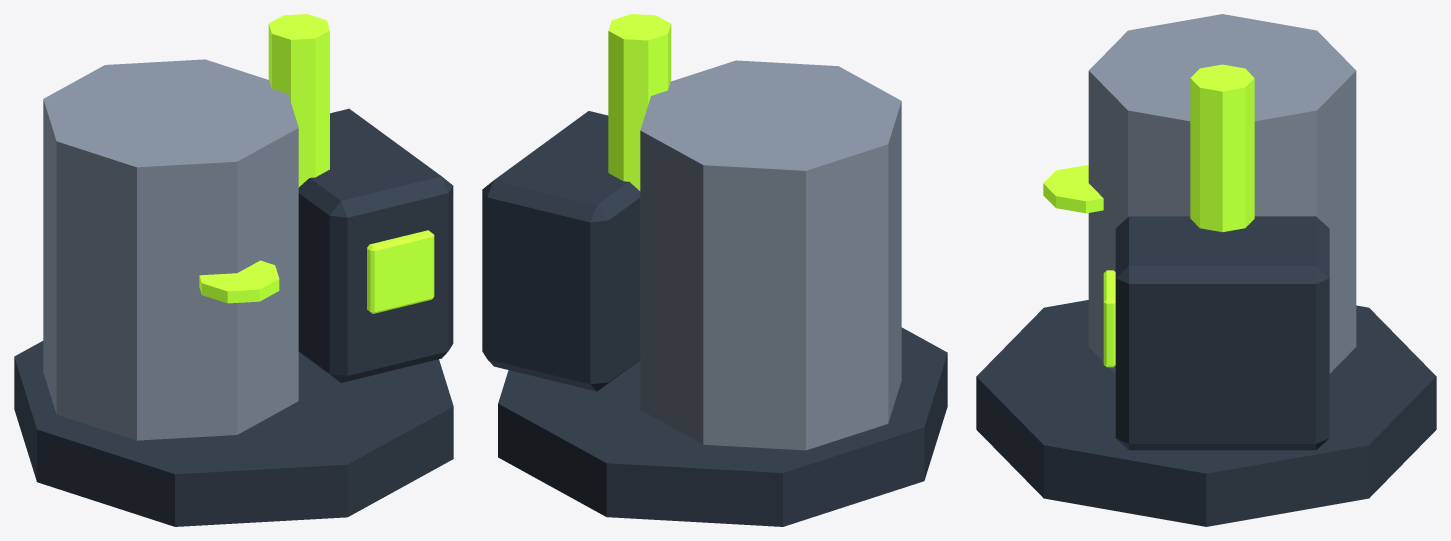
Rendered from acid-processing-plant.glb.
3 views of the same model, side by side, from view 1: azimuth 30°, elevation 25°; view 2: azimuth 150°, elevation 25°; view 3: azimuth 270°, elevation 25° (orthographic). The views are drawn at different scales.
Visible parts, largest first — view 1: Acid tank, Tabletop plinth, Processing unit, Outlet pipe, Hazard panel, Acid indicator; view 2: Acid tank, Tabletop plinth, Processing unit, Outlet pipe; view 3: Tabletop plinth, Processing unit, Acid tank, Outlet pipe, Acid indicator, Hazard panel.
Boxes of the visible parts, box(x1,y1,x2,y2) form: Acid tank: box(43, 59, 298, 440); Tabletop plinth: box(14, 341, 453, 526); Processing unit: box(298, 108, 453, 382); Outlet pipe: box(268, 14, 329, 187); Hazard panel: box(367, 230, 434, 313); Acid indicator: box(199, 260, 279, 303); Acid tank: box(640, 60, 901, 450); Tabletop plinth: box(498, 327, 947, 526); Processing unit: box(482, 111, 640, 391); Outlet pipe: box(608, 14, 671, 190); Tabletop plinth: box(976, 300, 1436, 526); Processing unit: box(1115, 216, 1329, 450); Acid tank: box(1088, 14, 1356, 373); Outlet pipe: box(1190, 64, 1254, 232); Acid indicator: box(1043, 165, 1103, 213); Hazard panel: box(1103, 270, 1115, 367).
Bounding box in the file's own units: 0.86 × 0.8 × 0.86.
